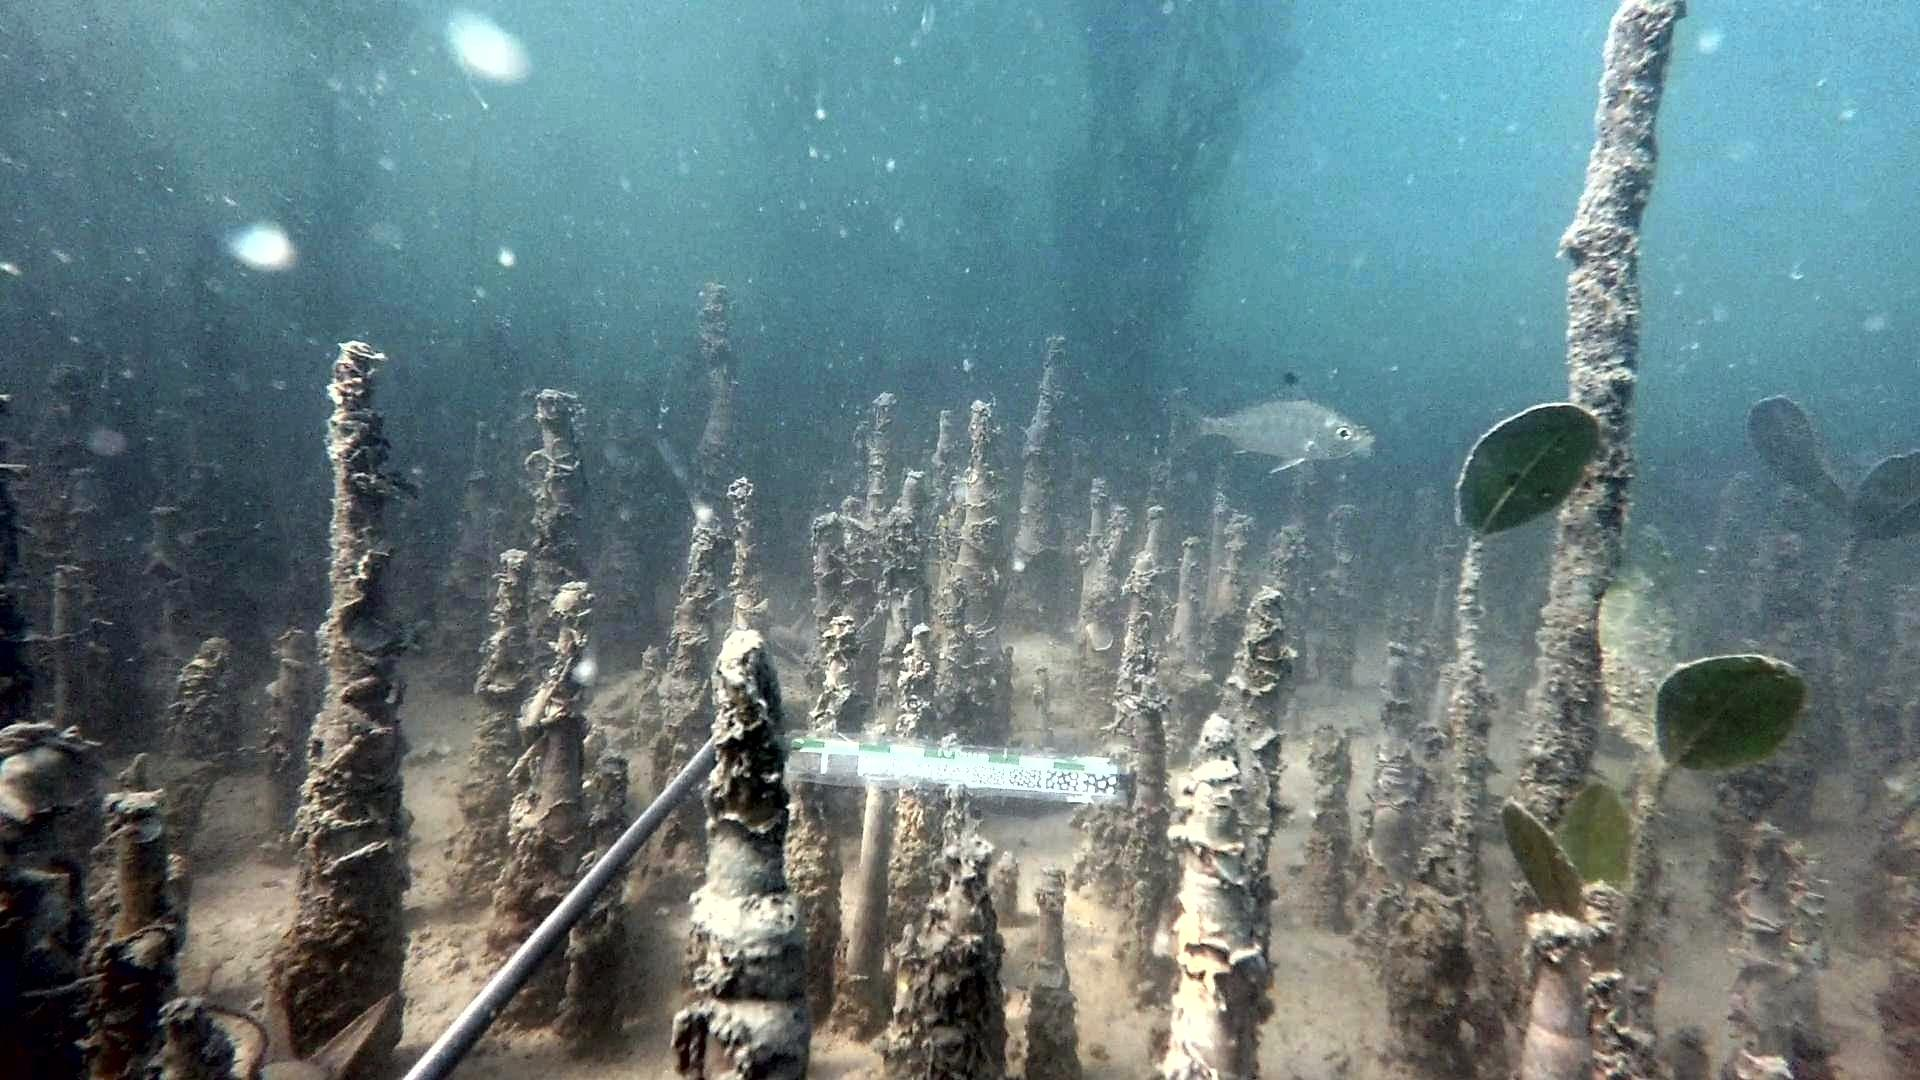gerres: (1164, 370, 1378, 475)
